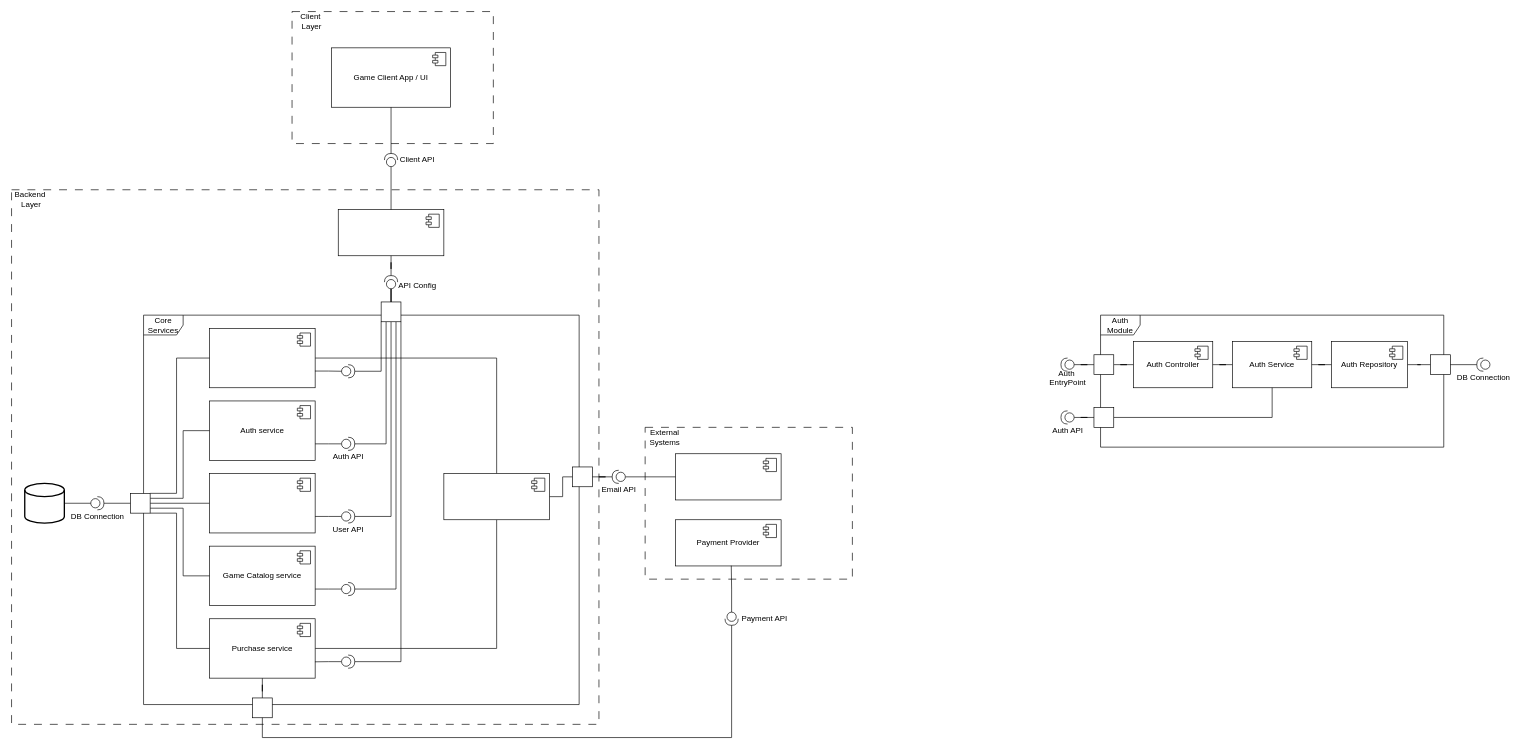
The diagram is 1521 pixels wide and 750 high, and some of its shapes have lost their labels. The centre of each missing label's shape, as x and y in pixels:
"API Gateway" goes at [391,232].
"Email Gateway" goes at [728,476].
"GC API" goes at [348,589].
"Library API" goes at [348,371].
"Library service" goes at [262,358].
"Notification service" goes at [496,496].
"Purchase API" goes at [348,661].
"SQL" goes at [44,502].
"User service" goes at [262,503].
